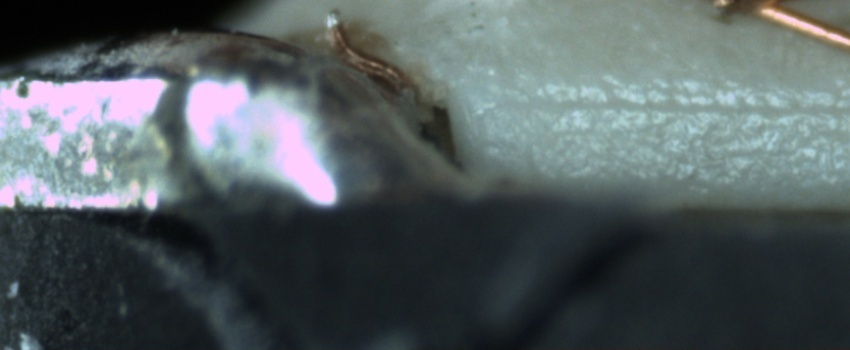DL: (554, 76, 849, 139)
